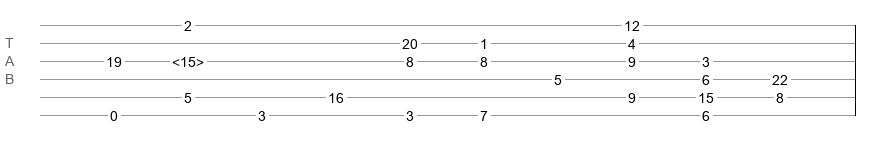0: (110, 108, 118, 118)
1: (480, 36, 488, 46)
12: (624, 18, 640, 28)
15: (698, 90, 714, 100)
16: (328, 90, 344, 100)
19: (106, 54, 122, 64)
2: (184, 18, 192, 28)
20: (402, 36, 418, 46)
22: (772, 72, 788, 82)
3: (258, 108, 266, 118), (406, 108, 414, 118), (702, 54, 710, 64)
4: (628, 36, 636, 46)
5: (184, 90, 192, 100), (554, 72, 562, 82)
6: (702, 72, 710, 82), (702, 108, 710, 118)
7: (480, 108, 488, 118)
8: (406, 54, 414, 64), (480, 54, 488, 64), (776, 90, 784, 100)
9: (628, 54, 636, 64), (628, 90, 636, 100)
harmonic: (172, 54, 204, 64)
